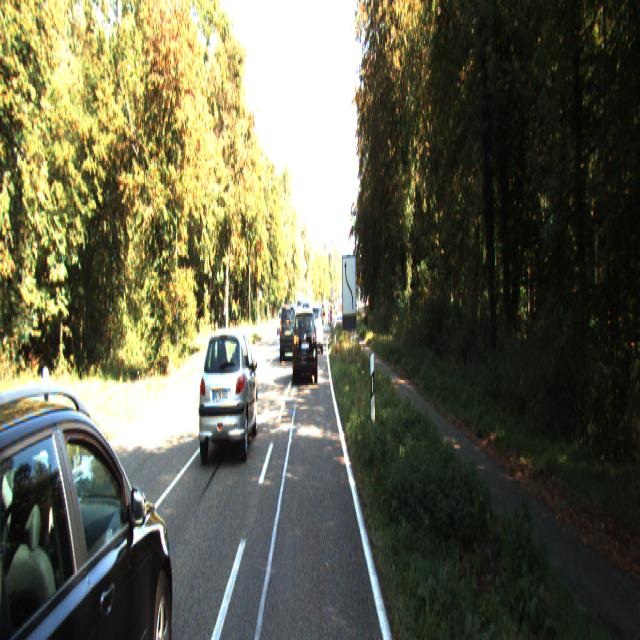Car: (197, 321, 258, 463), (292, 306, 318, 383), (279, 302, 298, 358), (309, 302, 323, 350)
DontCare: (0, 334, 186, 637)
